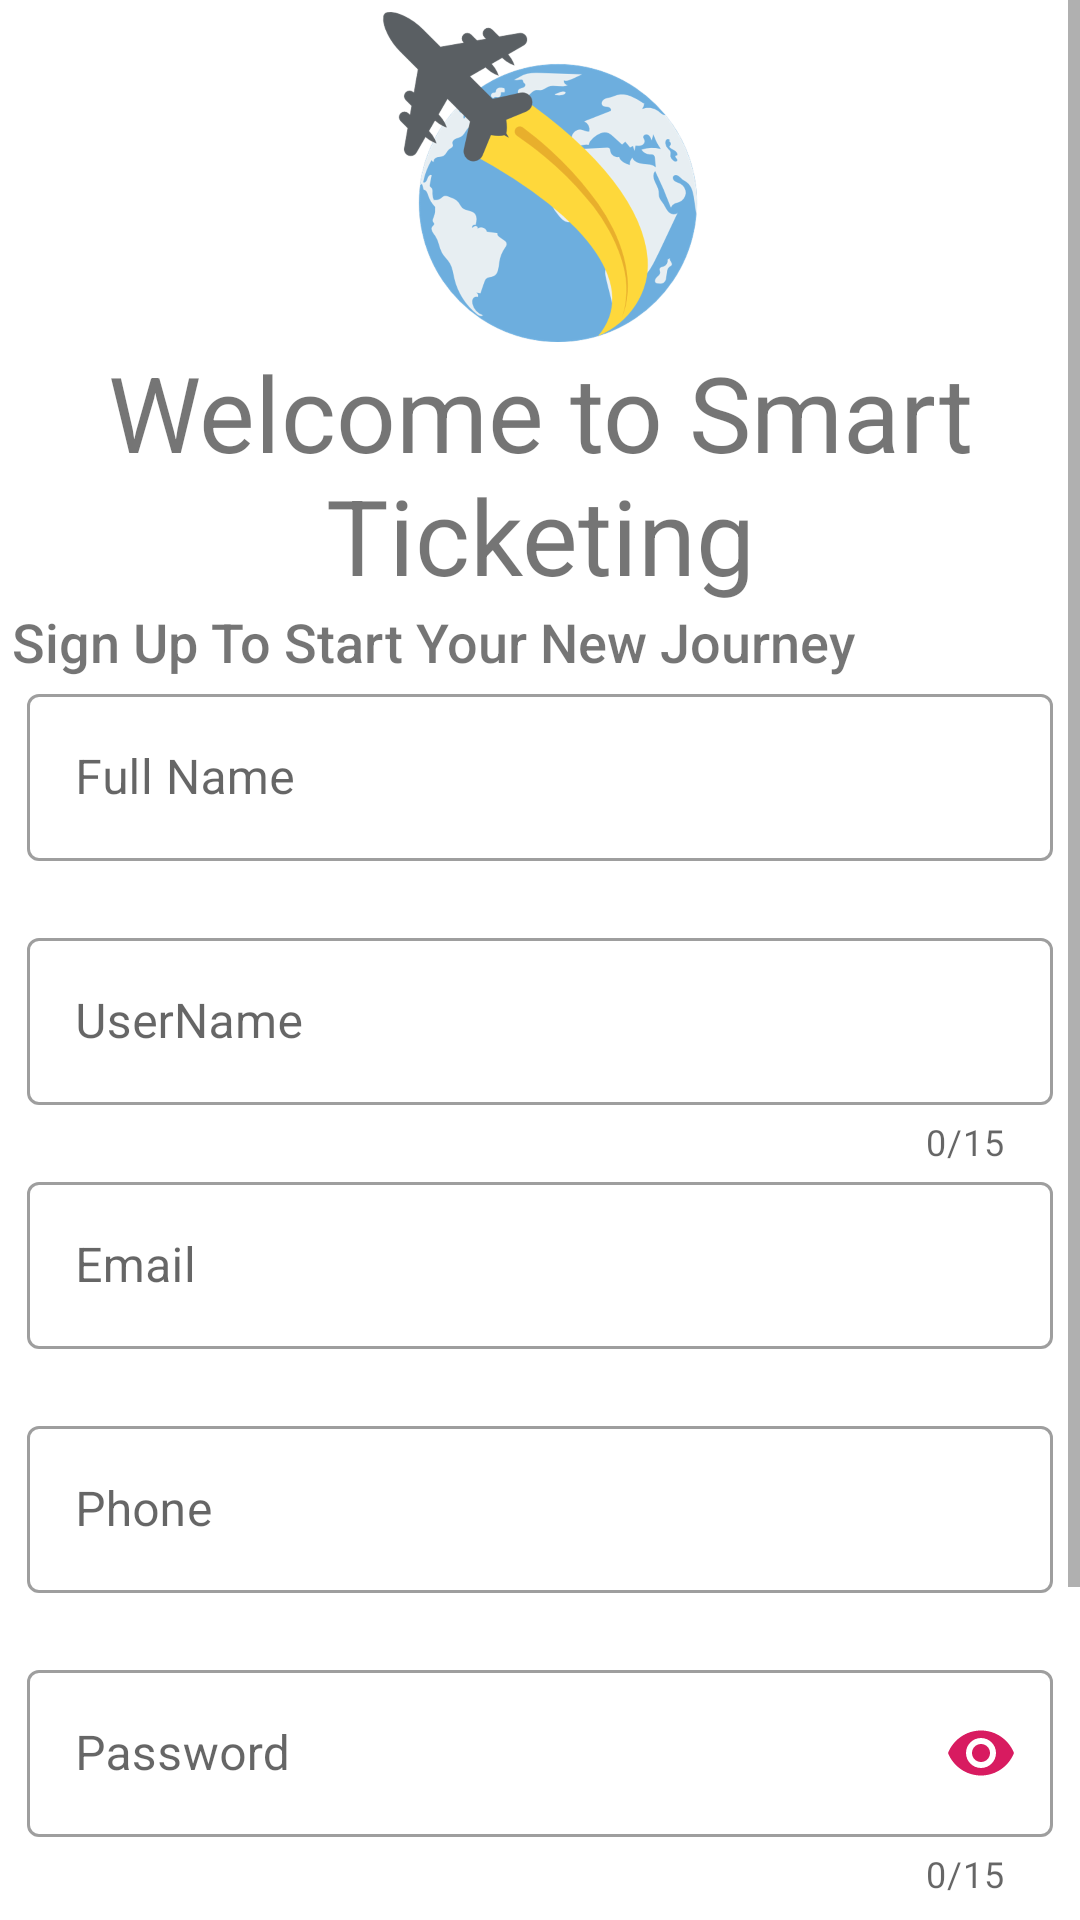

Icon click points for this 1080w x 1920h phone screenshot, format (x,y):
travelling: (540,177)
